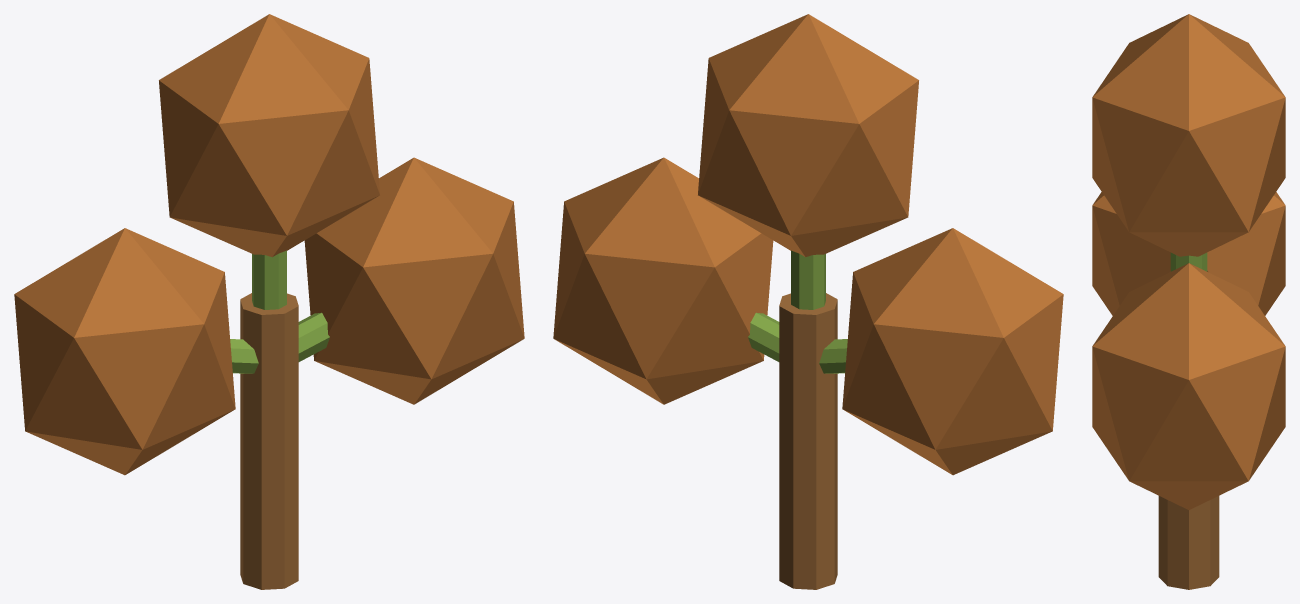
File: harvest_drop_hazelnut.glb
3 views of the same model, side by side, from view 1: azimuth 30°, elevation 25°; view 2: azimuth 150°, elevation 25°; view 3: azimuth 270°, elevation 25° (orthographic).
Parts seen in each view (by area): view 1: FTF_Harvest_Drop_Hazelnut_Cluster_Mesh; view 2: FTF_Harvest_Drop_Hazelnut_Cluster_Mesh; view 3: FTF_Harvest_Drop_Hazelnut_Cluster_Mesh.
Boxes of the visible parts, bbox=[...] form: FTF_Harvest_Drop_Hazelnut_Cluster_Mesh: bbox=[14, 14, 524, 589]; FTF_Harvest_Drop_Hazelnut_Cluster_Mesh: bbox=[553, 14, 1063, 589]; FTF_Harvest_Drop_Hazelnut_Cluster_Mesh: bbox=[1092, 14, 1285, 589].
Bounding box in the file's own units: 0.3721 × 0.41 × 0.1276.
